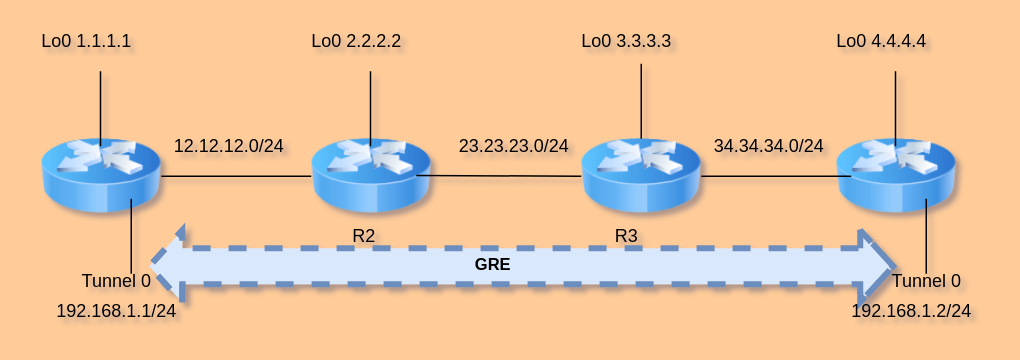
This 1020x360 diagram has some shape labels left out. The centre of each missing label's shape, as x and y in pixels:
"R1" goes at point 100,176.
"R4" goes at point 896,176.
